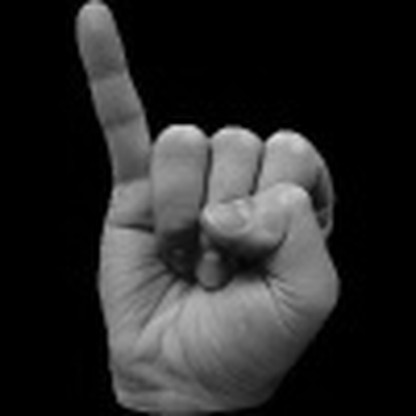i: (49, 1, 362, 385)
